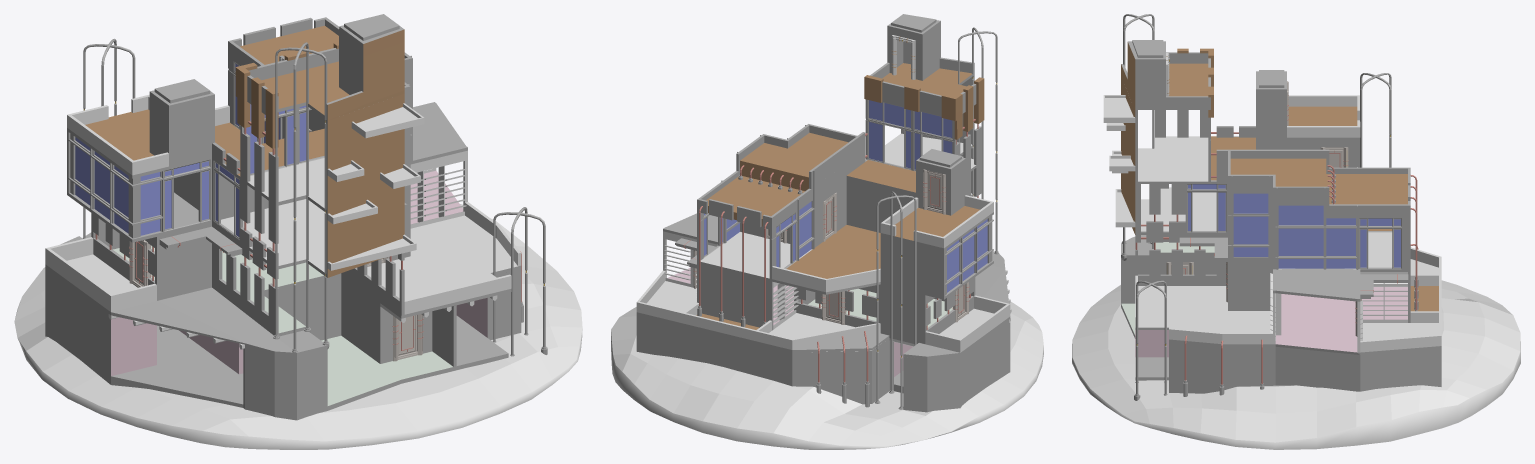
File: maquette_L1.fbx
The picture shows the model from 3 angles, left to right: view 1: azimuth 30°, elevation 25°; view 2: azimuth 150°, elevation 25°; view 3: azimuth 270°, elevation 25°; orthographic projection. The views are drawn at different scales.
Visible parts, largest first — view 1: L-1, Plane.006, L0, L1.001, L2, L1, L1_veranda, L3, L1_pergola1.004, module_ascenceur_structure.002, bacPlante, toit_Bassin (+18 smaller); view 2: Plane.006, L-1, L1, L0, toit_Bassin, L2, L3, module_fenetre.007, L0_rambardeBassin, L1_pergola1.004, module_ascenceur_structure.001, L1_veranda (+19 smaller); view 3: Plane.006, L0, L-1, toit_Bassin, L2, L0_veranda.001, L1, L3, L1_pergola1.001, L0_rambardeBassin, bacPlante, module_fenetre.001 (+17 smaller).
Boxes of the visible parts, x1,y1,x2,y2 form: L-1: (45,267,521,420); Plane.006: (14,204,582,449); L0: (45,170,521,352); L1.001: (327,29,404,277); L2: (67,79,327,213); L1: (67,80,467,277); L1_veranda: (68,133,162,238); L3: (247,14,404,120); L1_pergola1.004: (235,42,338,201); module_ascenceur_structure.002: (273,42,329,352); bacPlante: (327,103,424,270); toit_Bassin: (228,17,412,107); Plane.006: (611,301,1043,449); L-1: (636,314,1010,412); L1: (663,147,993,299); L0: (636,251,1010,358); toit_Bassin: (697,124,859,229); L2: (846,75,993,250); L3: (882,14,976,108); module_fenetre.007: (865,99,956,171); L0_rambardeBassin: (636,231,880,349); L1_pergola1.004: (864,75,984,172); module_ascenceur_structure.001: (875,191,916,409); L1_veranda: (945,216,993,294); Plane.006: (1072,280,1520,449); L0: (1121,235,1441,354); L-1: (1121,255,1441,393); toit_Bassin: (1228,149,1410,218); L2: (1135,70,1359,183); L0_veranda.001: (1228,149,1357,269); L1: (1135,140,1410,301); L3: (1127,40,1210,109); L1_pergola1.001: (1135,235,1227,285); L0_rambardeBassin: (1357,247,1441,352); bacPlante: (1103,95,1135,227); module_fenetre.001: (1358,218,1410,269).
Bounding box in the file's own units: 1.6 × 1.18 × 1.6.
